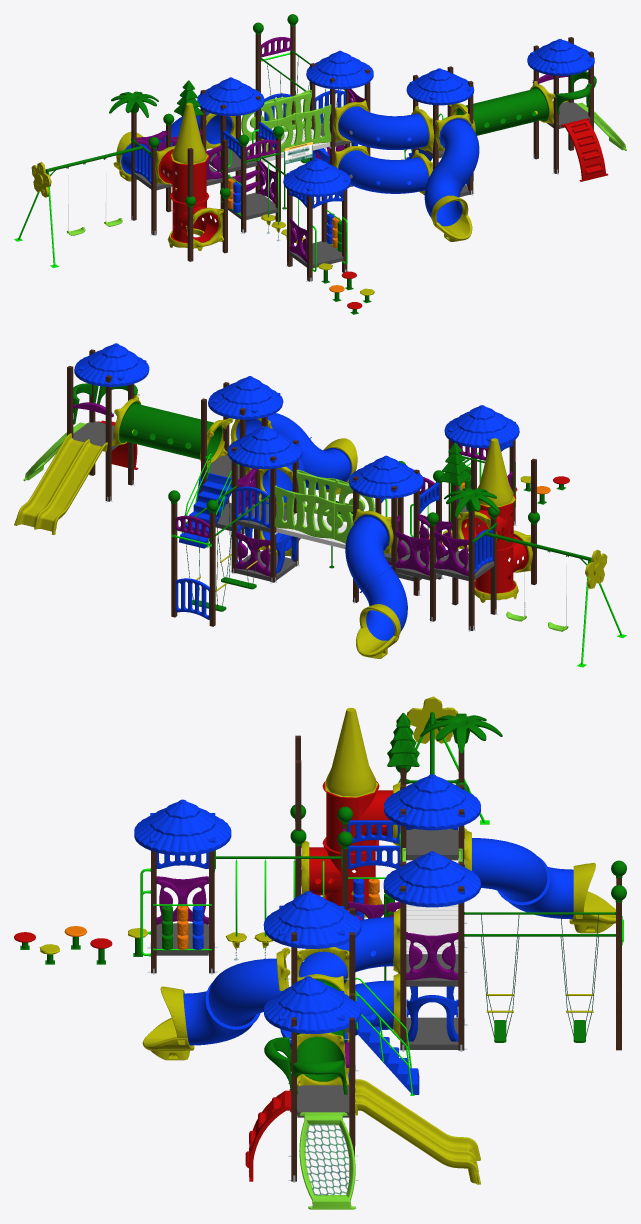
3 views of the same model, one above another, from view 1: azimuth 30°, elevation 25°; view 2: azimuth 150°, elevation 25°; view 3: azimuth 270°, elevation 25° (orthographic). The views are drawn at different scales.
Parts seen in each view (by area): view 1: object 50, object 34, TUNEL CURVO M3, TUNEL CURVO M3.001, object 23, DUTO TOBOGA M3 LADO B, TOLDO M2, TOLDO M2.004, TOLDO M2.002, TOLDO M2.003, TOLDO M2.001, DUTO TOBOGA M3 LADO A (+21 smaller); view 2: object 50, object 34, object 23, DUTO TOBOGA M3 LADO B.001, TOLDO M2.003, TOLDO M2.001, TOLDO M2.004, TOLDO M2.002, TOLDO M2, DUTO TOBOGA M3 LADO A.001, DUTO TOBOGA M3 LADO A, object 64 (+28 smaller); view 3: object 50, object 34, object 23, TUNEL CURVO M3, TOLDO M2.003, TOLDO M2, TOLDO M2.001, DUTO TOBOGA M3 LADO B.001, TOLDO M2.004, TOLDO M2.002, DUTO TOBOGA M3 LADO B, object 71 (+27 smaller).
Part boxes in pixels (x1,y1,x2,y2): object 50: (31,80,626,309); object 34: (109,56,549,208); TUNEL CURVO M3: (333,100,434,151); TUNEL CURVO M3.001: (333,145,432,193); object 23: (136,52,568,262); DUTO TOBOGA M3 LADO B: (436,118,479,184); TOLDO M2: (283,158,350,196); TOLDO M2.004: (306,50,373,89); TOLDO M2.002: (197,77,264,115); TOLDO M2.003: (406,68,474,105); TOLDO M2.001: (527,39,594,75); DUTO TOBOGA M3 LADO A: (424,163,465,226); object 50: (14,394,607,602); object 34: (118,401,512,619); object 23: (72,402,512,576); DUTO TOBOGA M3 LADO B.001: (345,514,392,592); TOLDO M2.003: (208,376,283,419); TOLDO M2.001: (74,343,149,386); TOLDO M2.004: (227,426,302,469); TOLDO M2.002: (349,455,423,498); TOLDO M2: (444,405,519,448); DUTO TOBOGA M3 LADO A.001: (360,566,407,640); DUTO TOBOGA M3 LADO A: (301,438,351,489); object 64: (395,522,591,580); object 50: (14,696,480,1209); object 34: (156,713,598,1094); object 23: (156,876,623,1067); TUNEL CURVO M3: (297,908,400,995); TOLDO M2.003: (263,891,361,948); TOLDO M2: (134,799,231,855); TOLDO M2.001: (263,976,361,1033); DUTO TOBOGA M3 LADO B.001: (472,838,550,905); TOLDO M2.004: (383,851,480,907); TOLDO M2.002: (384,774,480,830); DUTO TOBOGA M3 LADO B: (205,958,279,1029); object 71: (20,846,342,964).
Size of the model in its own units: 14.44 by 3.66 by 9.62.
70 materials, 5 textured.
